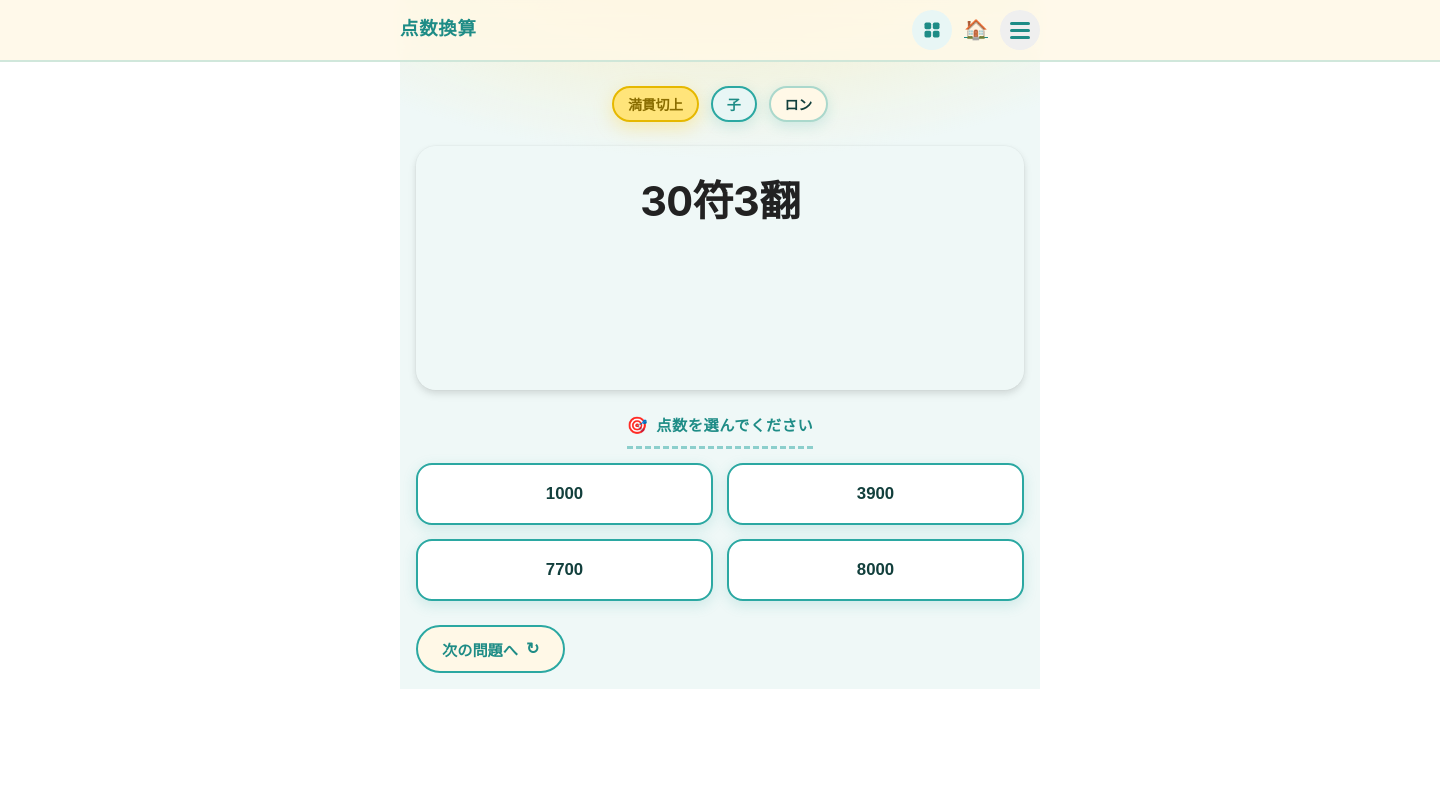
Test case: ConvertQuizPage › 計算式は指数部が上付き(sup)で表示され、平文はaria-labelで読み上げられる
Step 1. Click the button "1000" → (564, 494), box [416,464,713,526]
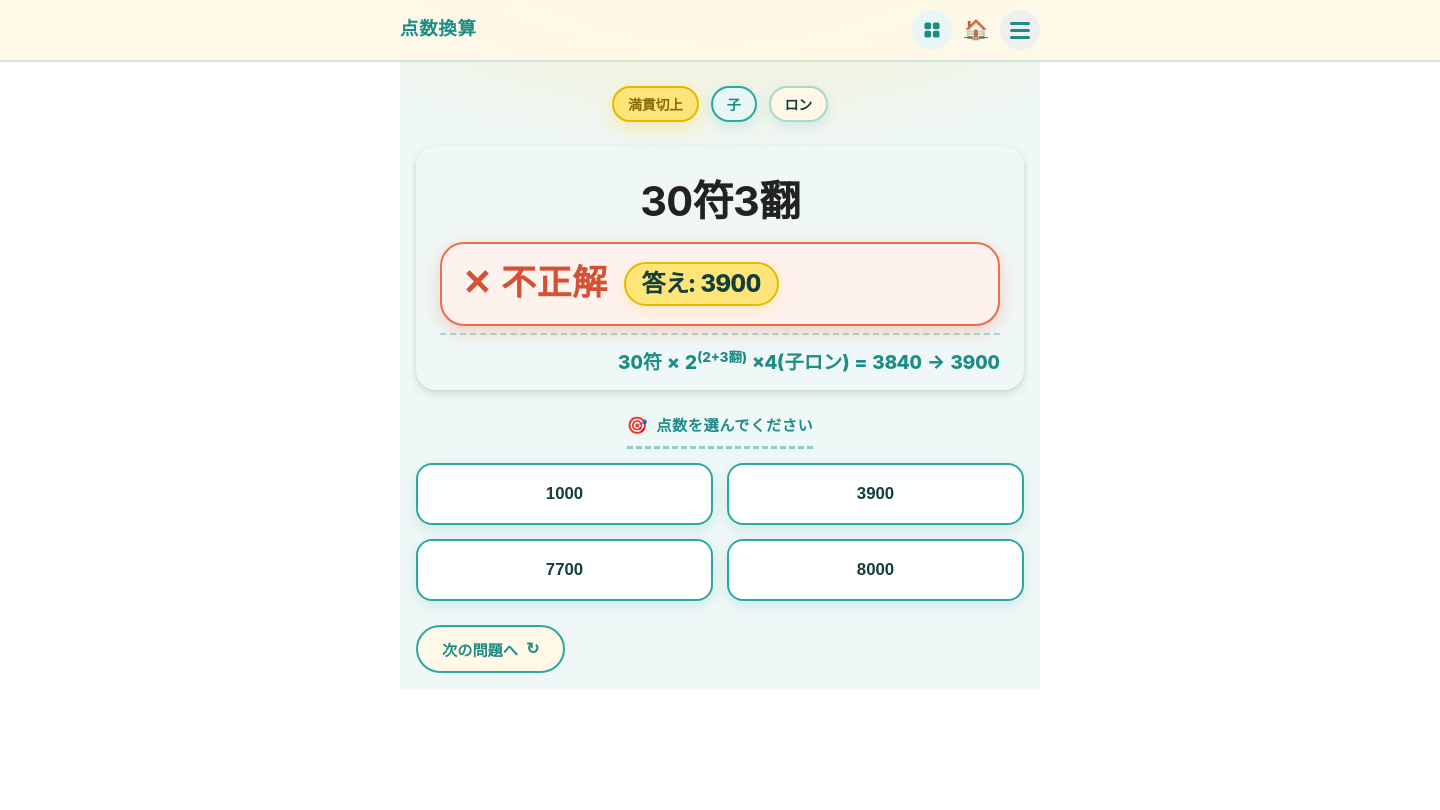
Now the text "(2+3翻)" is shown, box [697,349,747,365]
